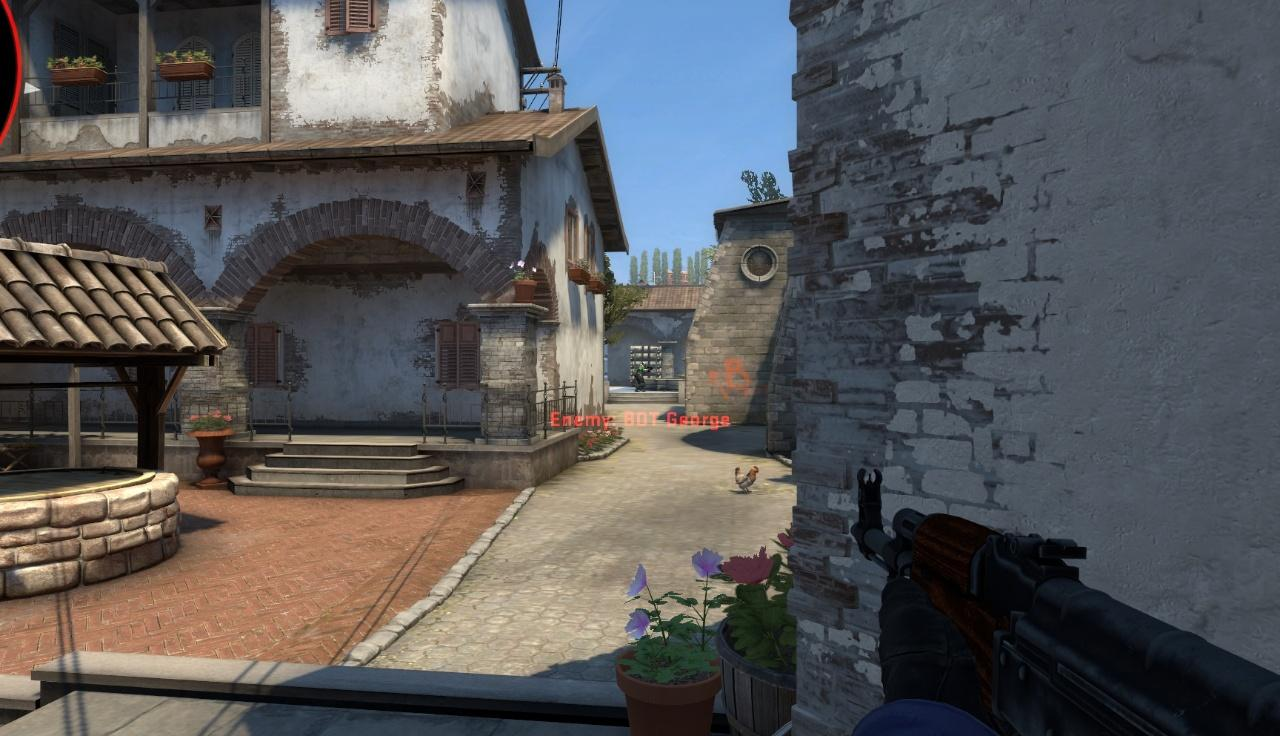ct: (635, 362, 647, 392)
cthead: (641, 362, 645, 368)
rifle: (851, 468, 1280, 735)
